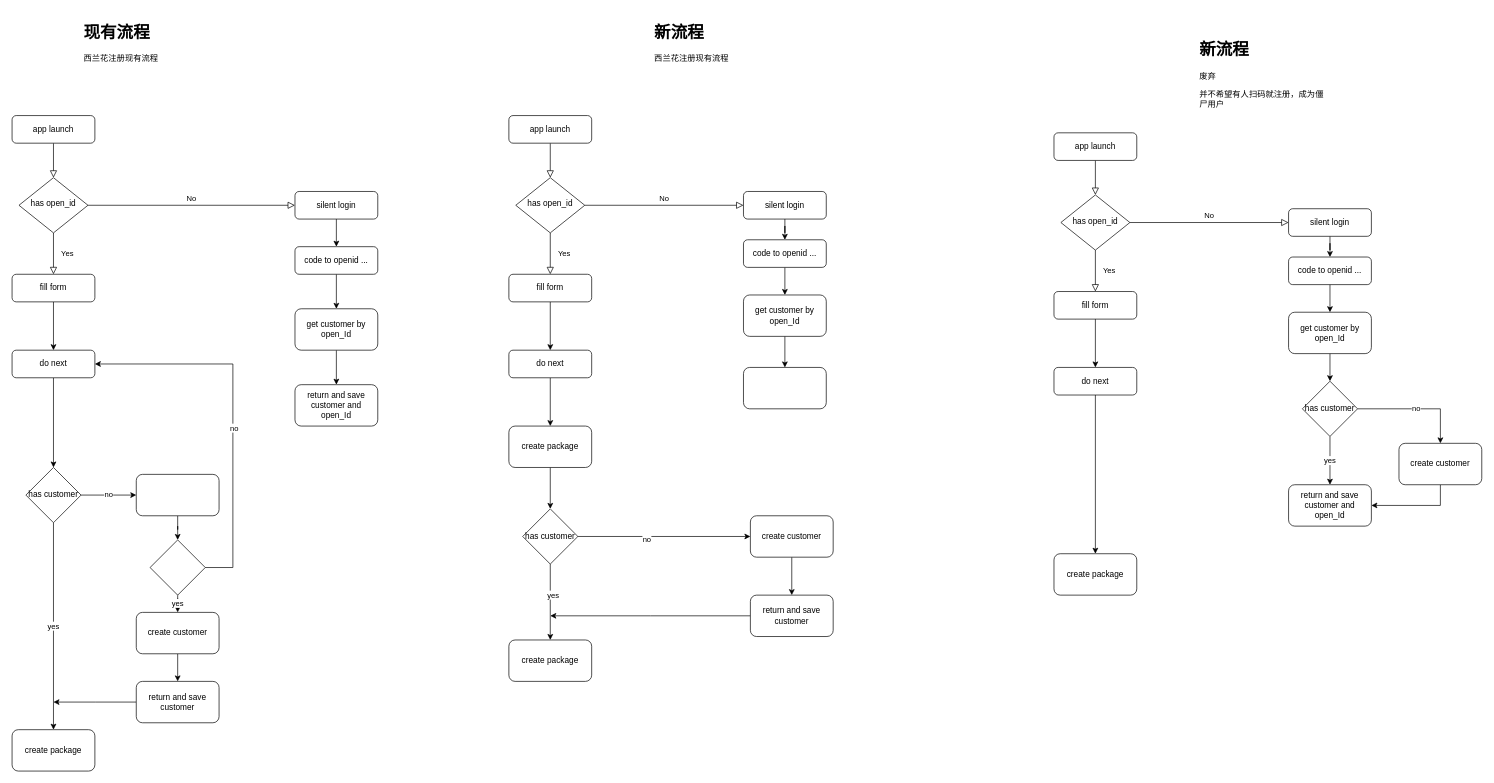
The diagram is 1494 pixels wide and 783 high, and some of its shapes have lost their labels. The centre of each missing label's shape, as x and y in pixels:
"is auth" goes at (177,567).
"return and save open_Id and customer" goes at (784,388).
"start auth" goes at (177,495).
